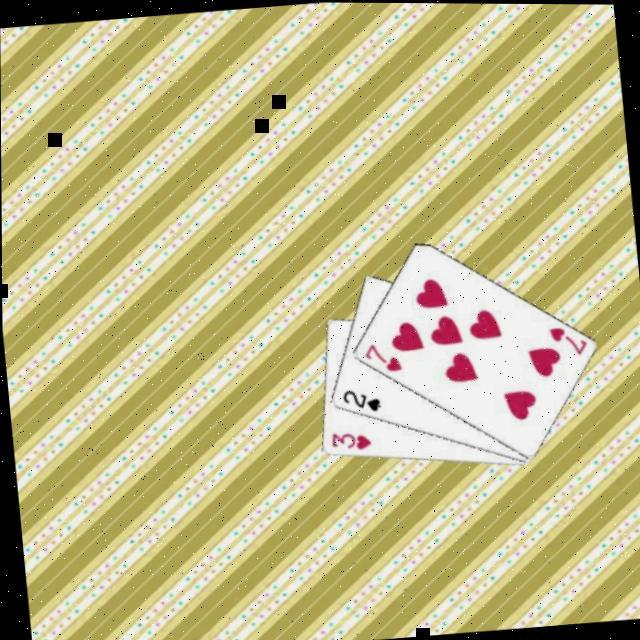2S: (338, 383, 382, 418)
3H: (326, 426, 372, 455)
7H: (543, 322, 589, 361), (358, 338, 403, 377)
